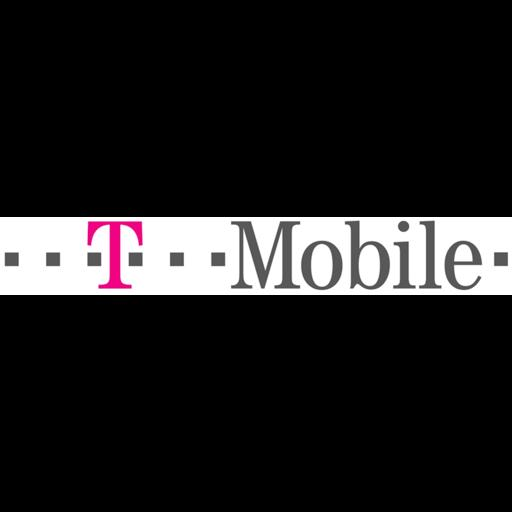Deutsche Telekom: (0, 217, 512, 295)
